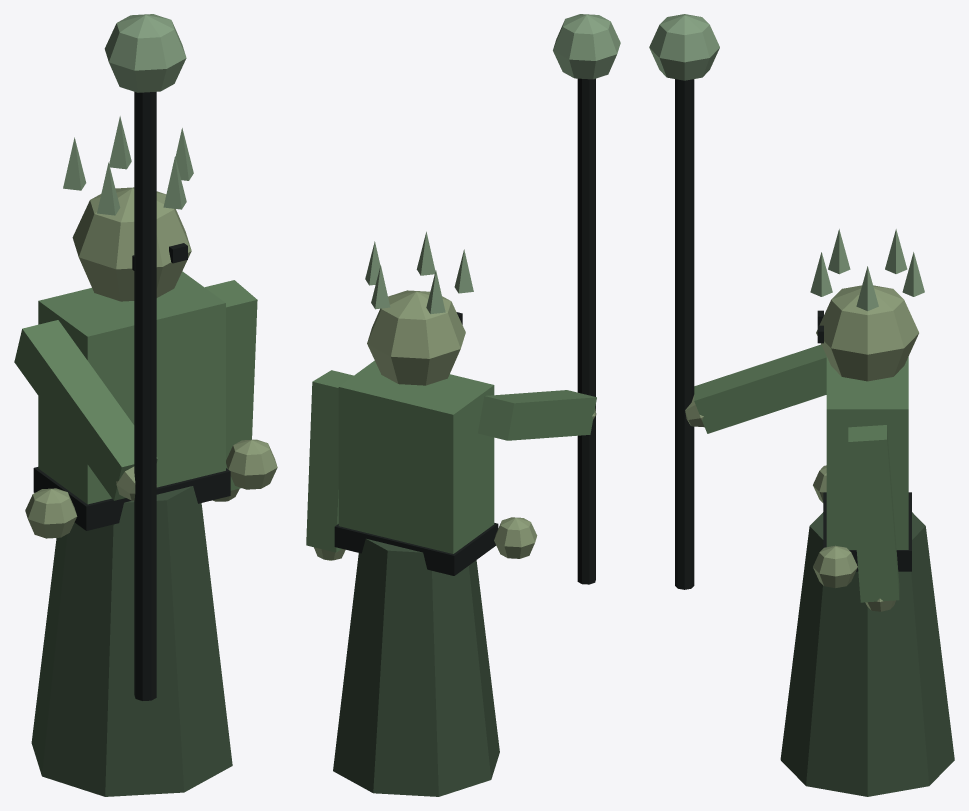
The model's file is SM_Champion_9027_Lich.glb.
3 views of the same model, side by side, from view 1: azimuth 30°, elevation 25°; view 2: azimuth 150°, elevation 25°; view 3: azimuth 270°, elevation 25° (orthographic). The views are drawn at different scales.
Parts seen in each view (by area): view 1: SM_Champion_9027_Lich; view 2: SM_Champion_9027_Lich; view 3: SM_Champion_9027_Lich.
Boxes of the visible parts, x1,y1,x2,y2 form: SM_Champion_9027_Lich: (14,14,277,796); SM_Champion_9027_Lich: (306,14,620,796); SM_Champion_9027_Lich: (649,14,954,796).
Size of the model in its own units: 0.8617 by 2.71 by 1.06.
